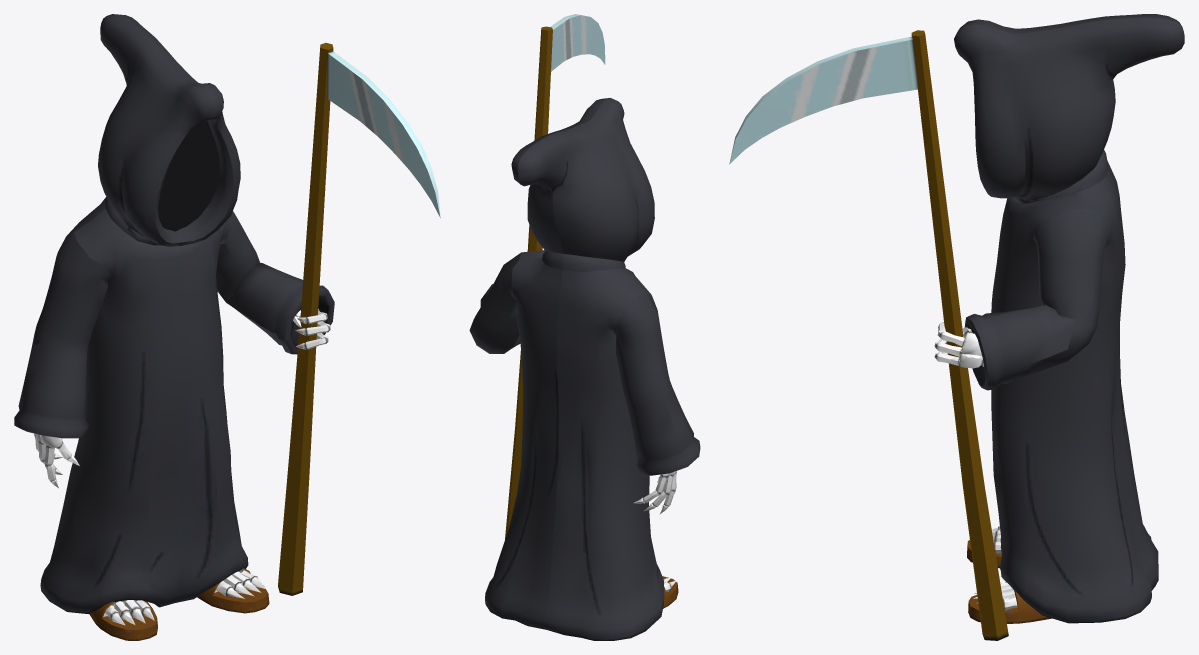
The model's file is reaper.glb.
The picture shows the model from 3 angles, left to right: view 1: azimuth 30°, elevation 25°; view 2: azimuth 150°, elevation 25°; view 3: azimuth 270°, elevation 25°; orthographic projection. The views are drawn at different scales.
Parts seen in each view (by area): view 1: death, scythe; view 2: death, scythe; view 3: death, scythe.
Boxes of the visible parts, x1,y1,x2,y2 form: death: (14, 14, 334, 640); scythe: (278, 43, 440, 595); death: (469, 98, 700, 640); scythe: (505, 14, 605, 539); death: (934, 14, 1184, 623); scythe: (729, 30, 1008, 640).
Size of the model in its own units: 1.07 by 2.12 by 1.45.
1 material, 1 textured.
